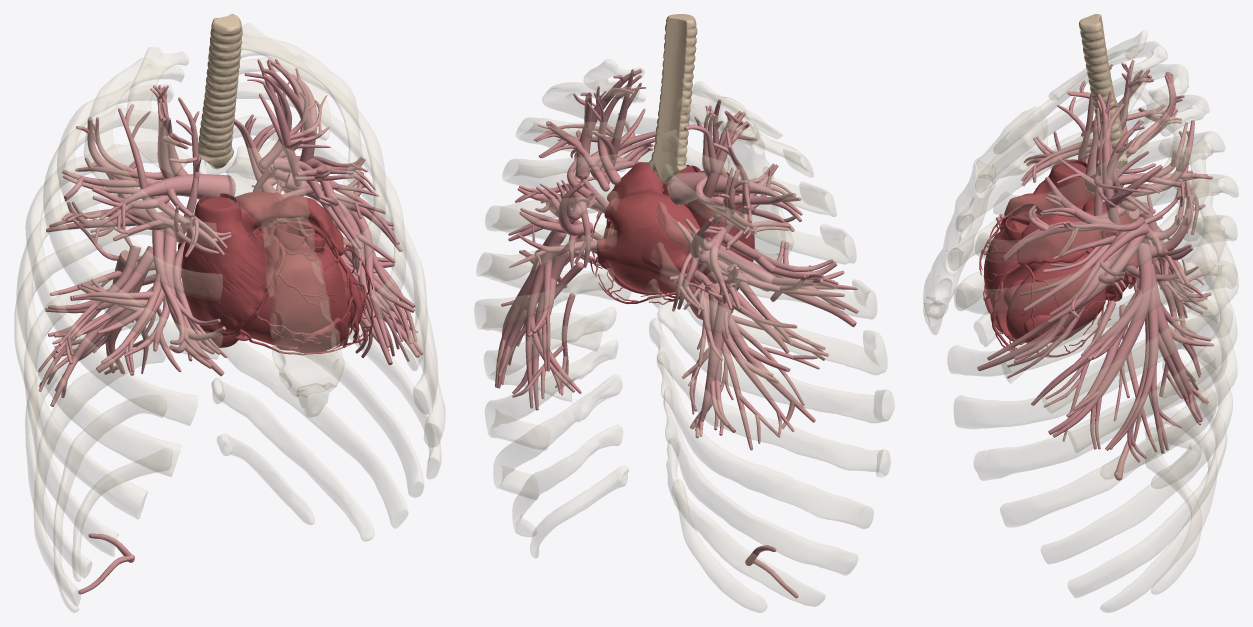
Rendered from chest.glb.
The picture shows the model from 3 angles, left to right: view 1: azimuth 30°, elevation 25°; view 2: azimuth 150°, elevation 25°; view 3: azimuth 270°, elevation 25°; orthographic projection. The views are drawn at different scales.
Visible parts, largest first — view 1: grp1 (×51); view 2: grp1 (×50); view 3: grp1 (×58).
Part boxes in pixels (x1,y1,x2,y2): grp1 (×51): (14, 14, 445, 612); grp1 (×50): (474, 14, 894, 612); grp1 (×58): (923, 14, 1238, 612).
Bounding box in the file's own units: 1.97 × 2.8 × 1.52.
